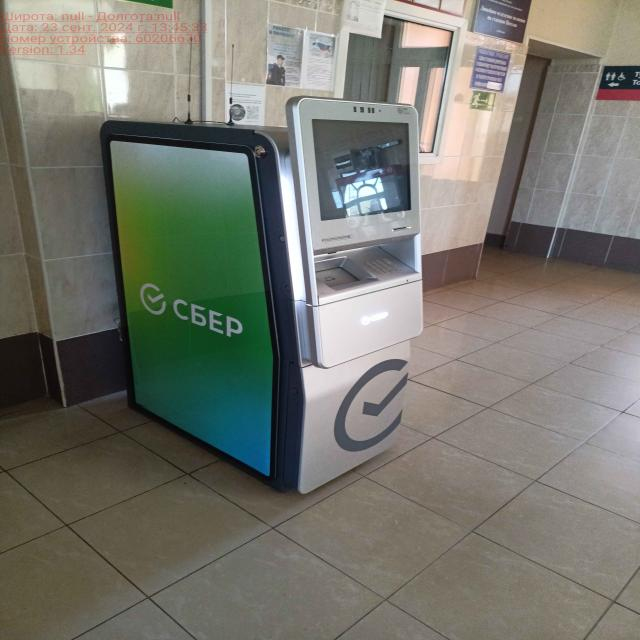bank: (96, 94, 441, 496)
